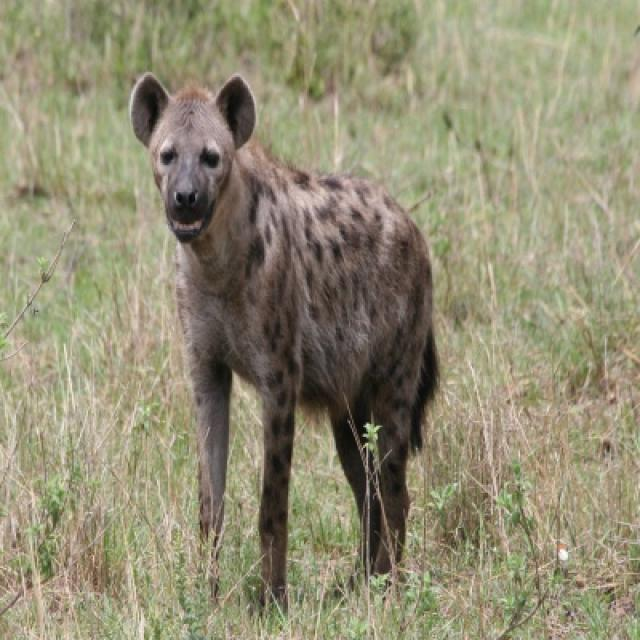hyena: (128, 72, 442, 613)
